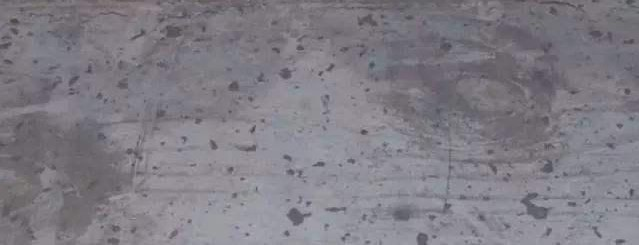Spalling: (1, 1, 639, 245)
